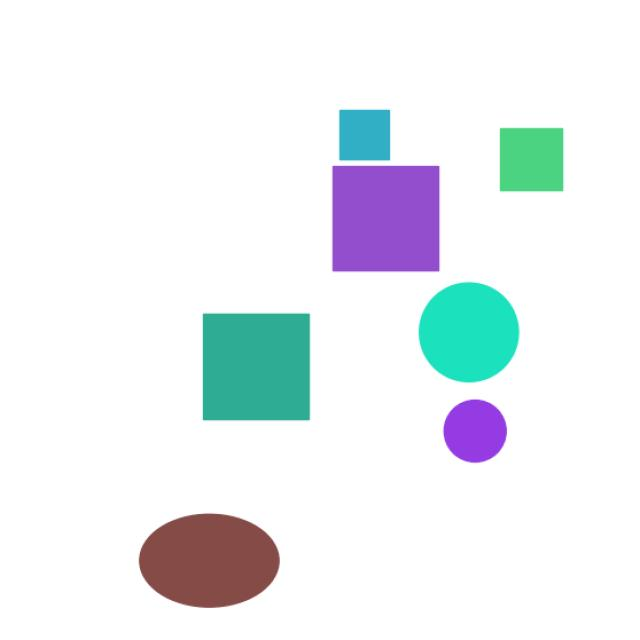Circle: (413, 274, 529, 389), (428, 390, 534, 492)
Oval: (109, 505, 301, 614)
square: (188, 302, 331, 431), (302, 160, 448, 278), (489, 116, 591, 200), (329, 99, 398, 170)
